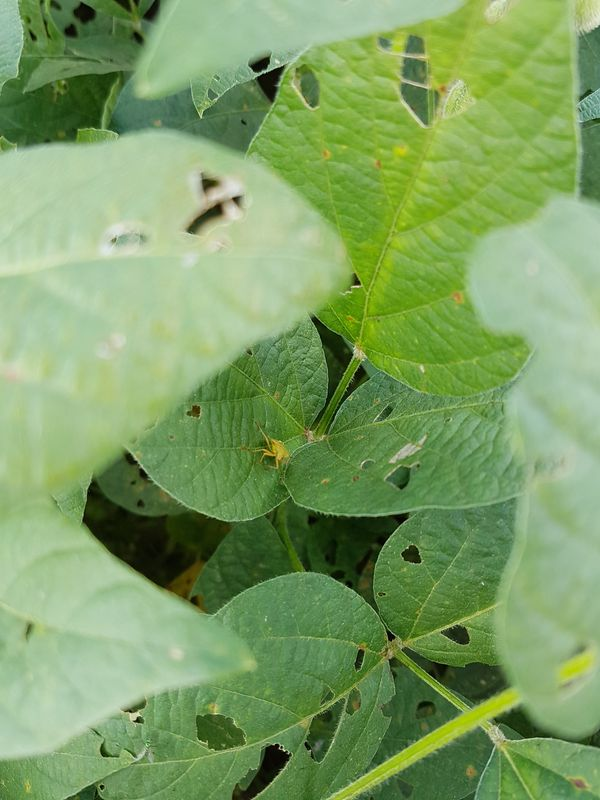Euschistus_heros_ninfa: (249, 420, 302, 479)
